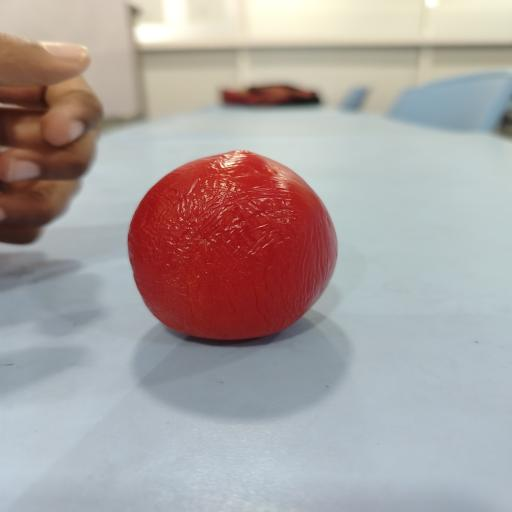spoiled: (128, 150, 337, 340)
